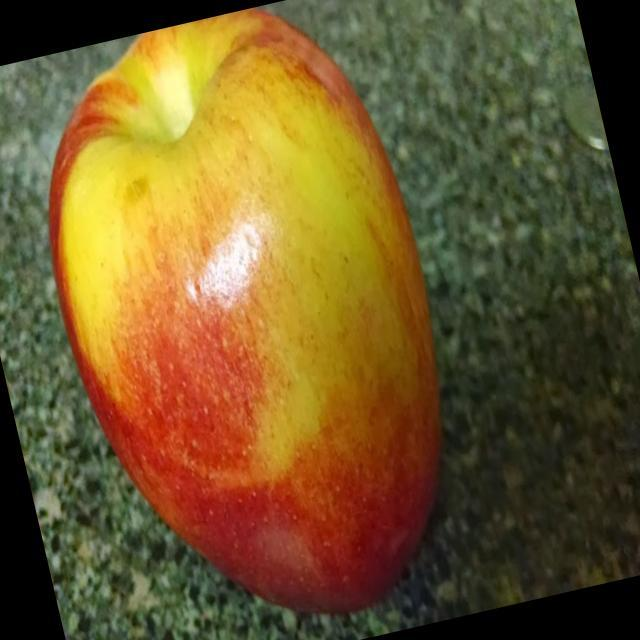APPLE: (3, 0, 495, 640)
